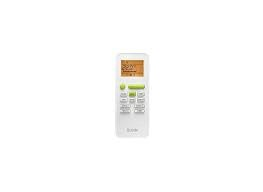remote control: (114, 52, 157, 143)
